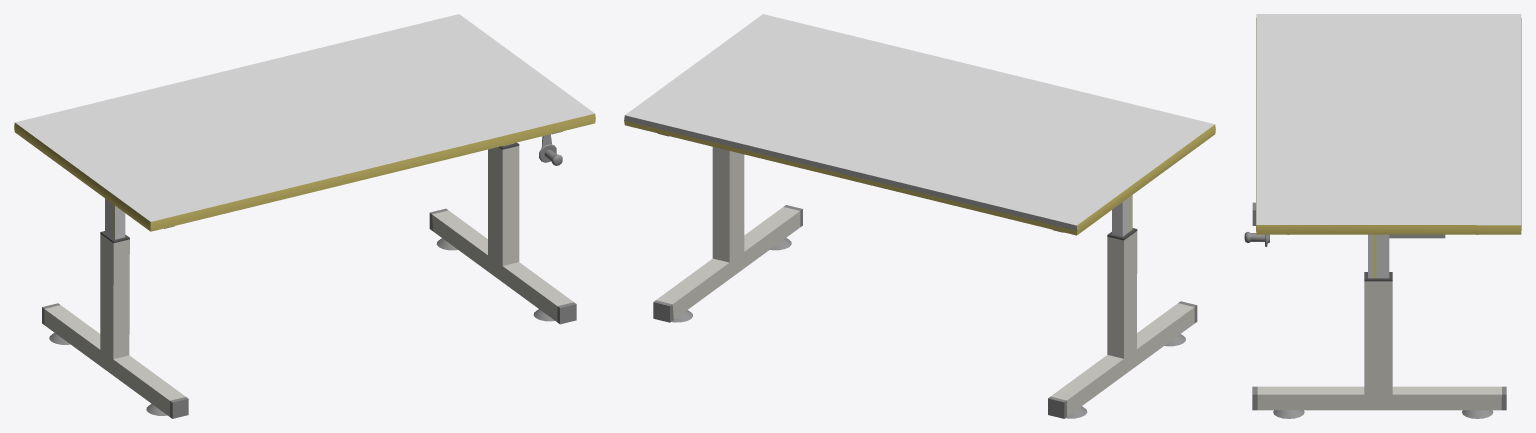
Rendered from sh_blend_swap_cc_0_technicaltable1.glb.
The picture shows the model from 3 angles, left to right: view 1: azimuth 30°, elevation 25°; view 2: azimuth 150°, elevation 25°; view 3: azimuth 270°, elevation 25°; orthographic projection. The views are drawn at different scales.
Bounding box in the file's own units: 2.15 × 0.95 × 1.19.
